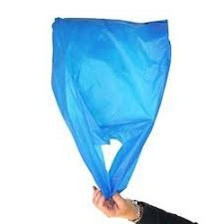plastic_bag: (42, 12, 178, 202)
